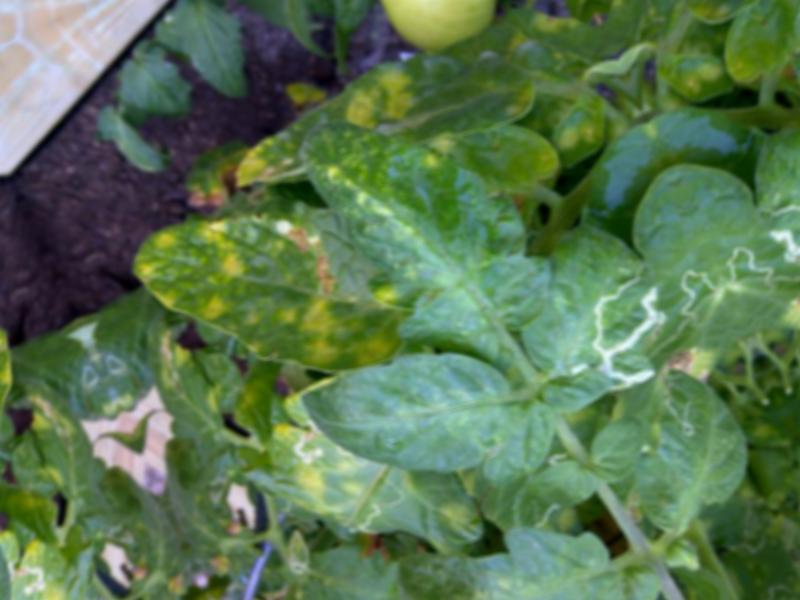Tomato mold leaf: (282, 47, 582, 404), (113, 133, 437, 444), (286, 295, 553, 544), (350, 451, 662, 600), (582, 342, 782, 555)
